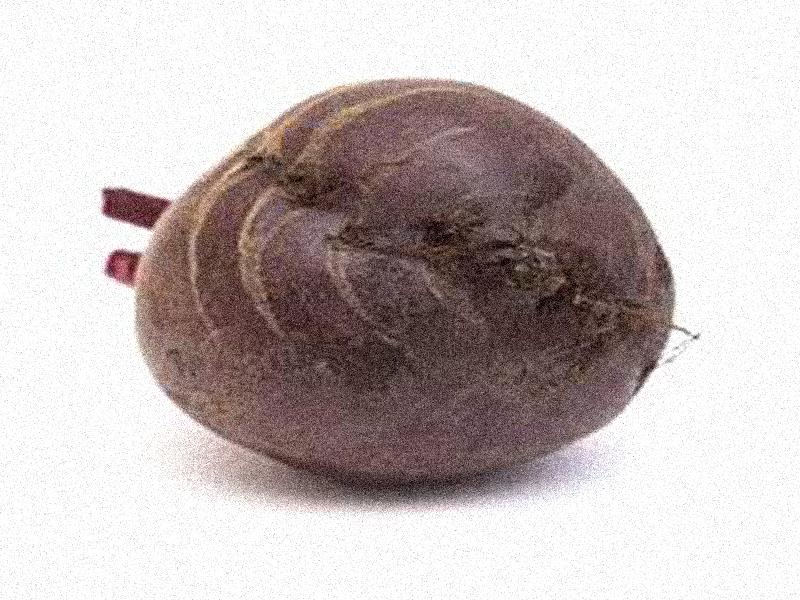Beet: (107, 75, 676, 491)
